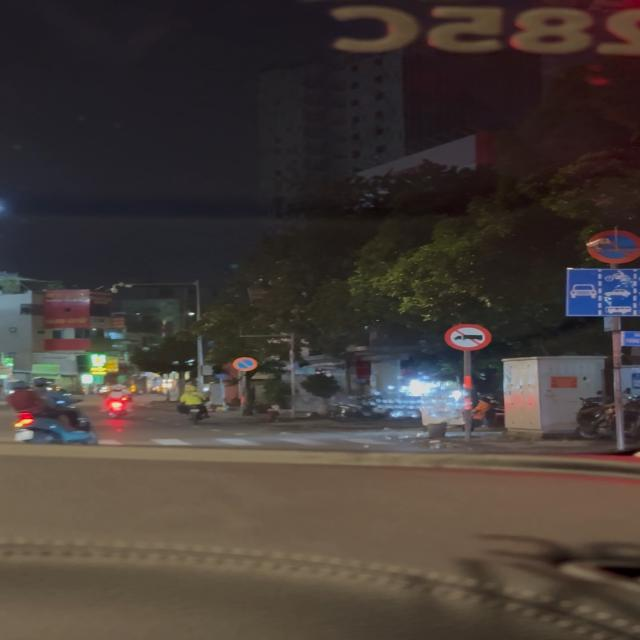Bien bao cam xe so-mi ro-mooc: (442, 322, 495, 352)
